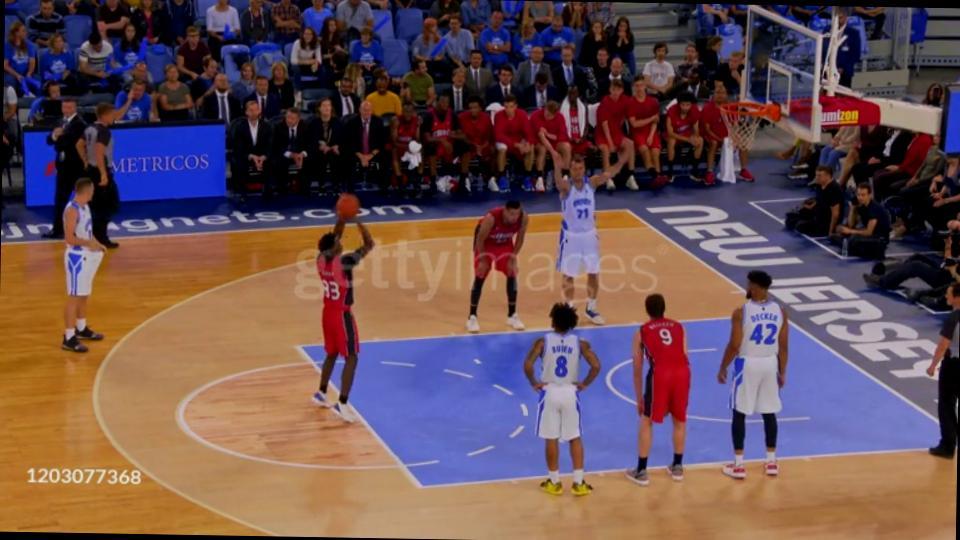hoop: (717, 94, 787, 127)
